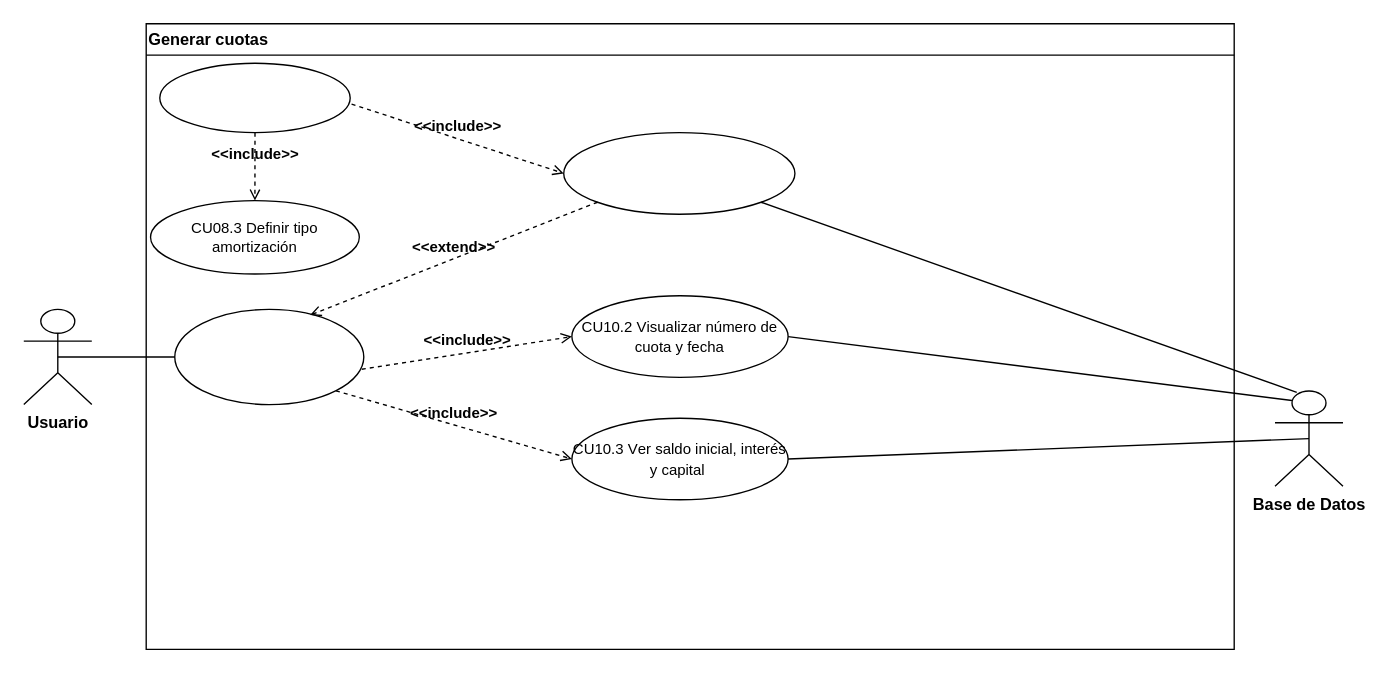
Some shapes in this 1389 by 673 pixel diagram are drawn without their labels. Here are the shapes that lost their labels. From the top down, the centre of each, then its label:
the point at 254,97: CU08.1 registrar pasivo
the point at 678,172: CU10.1 G enerar cuotas para pasivos
the point at 268,356: CU10 Generar cuota
